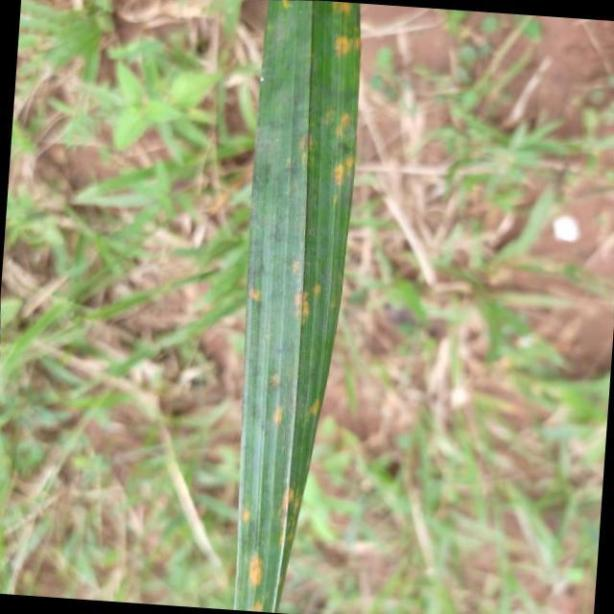Kalium: (256, 0, 363, 614)
